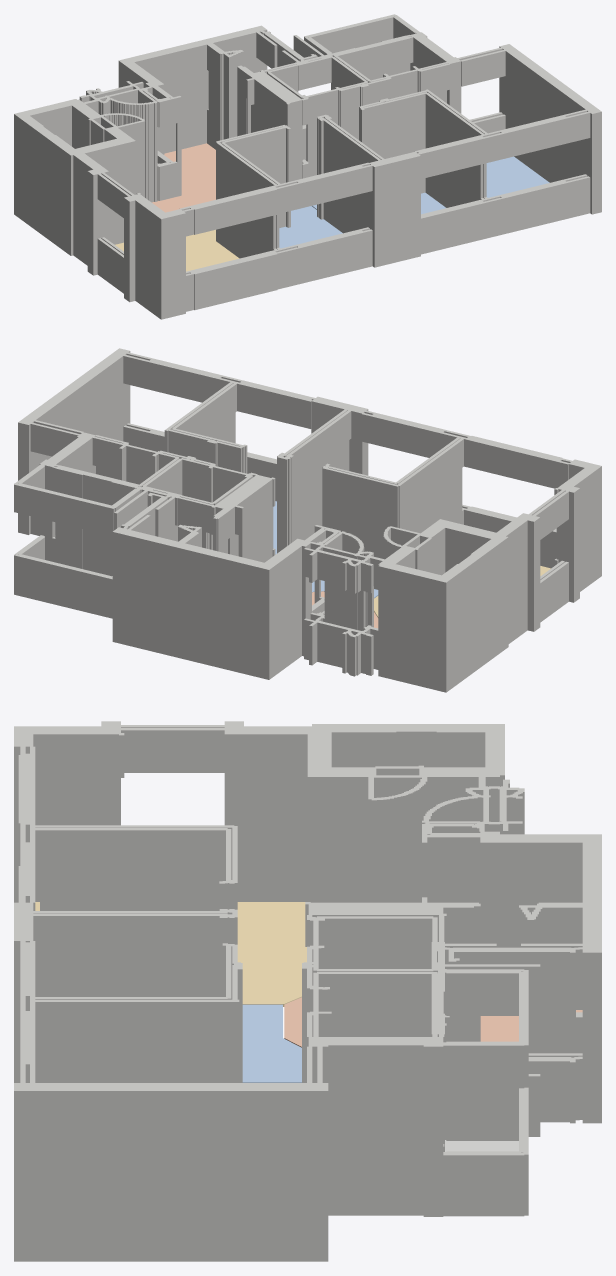
3 renders of one model, top to bottom at view 1: azimuth 30°, elevation 25°; view 2: azimuth 150°, elevation 25°; view 3: azimuth 270°, elevation 25°, orthographic. The views are drawn at different scales.
Parts seen in each view (by area): view 1: walls, room:kitchen:0, room:bedroom:9, room:bedroom:3, room:living:6; view 2: walls; view 3: walls, room:living:6, room:bedroom:3, room:kitchen:0, room:ledge:4.
Boxes of the visible parts, left/top/right/bottom form: walls: left=14, top=14, right=601, bottom=319; room:kitchen:0: left=152, top=143, right=215, bottom=212; room:bedroom:9: left=486, top=156, right=549, bottom=197; room:bedroom:3: left=279, top=206, right=342, bottom=248; room:living:6: left=115, top=229, right=239, bottom=271; walls: left=14, top=348, right=601, bottom=692; walls: left=14, top=721, right=601, bottom=1261; room:living:6: left=35, top=902, right=306, bottom=1006; room:bedroom:3: left=242, top=1004, right=301, bottom=1082; room:kitchen:0: left=284, top=997, right=582, bottom=1047; room:ledge:4: left=445, top=1140, right=518, bottom=1151.
Size of the model in its own units: 13.02 by 2.8 by 8.75.
